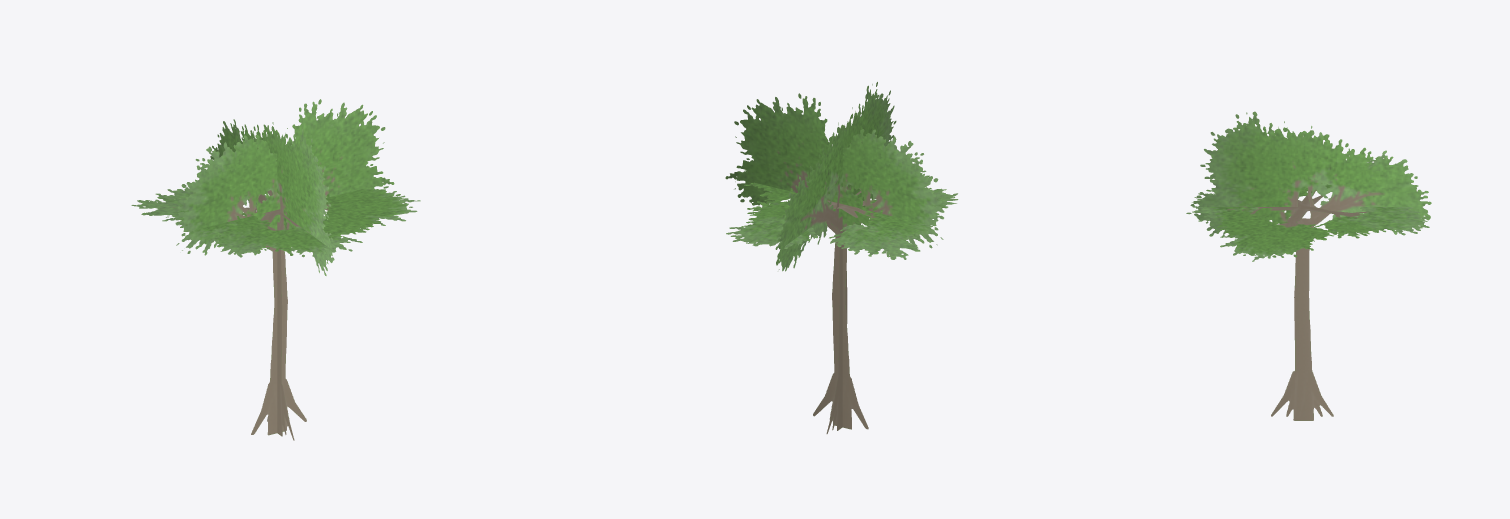
File: jungle_tree_2_far.glb
The picture shows the model from 3 angles, left to right: view 1: azimuth 30°, elevation 25°; view 2: azimuth 150°, elevation 25°; view 3: azimuth 270°, elevation 25°; orthographic projection. The views are drawn at different scales.
Visible parts, largest first — view 1: jungle_tree_2_far; view 2: jungle_tree_2_far; view 3: jungle_tree_2_far.
Boxes of the visible parts, bbox=[...] form: jungle_tree_2_far: bbox=[131, 99, 420, 440]; jungle_tree_2_far: bbox=[725, 82, 958, 433]; jungle_tree_2_far: bbox=[1186, 111, 1431, 420].
Size of the model in its own units: 17.91 by 17.91 by 17.91.
Materials: 1 (1 with a texture image).
